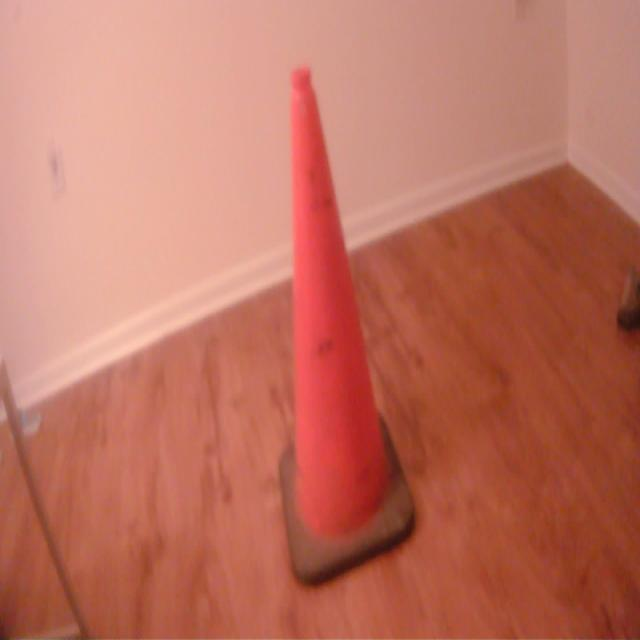traffic cone: (276, 59, 420, 593)
